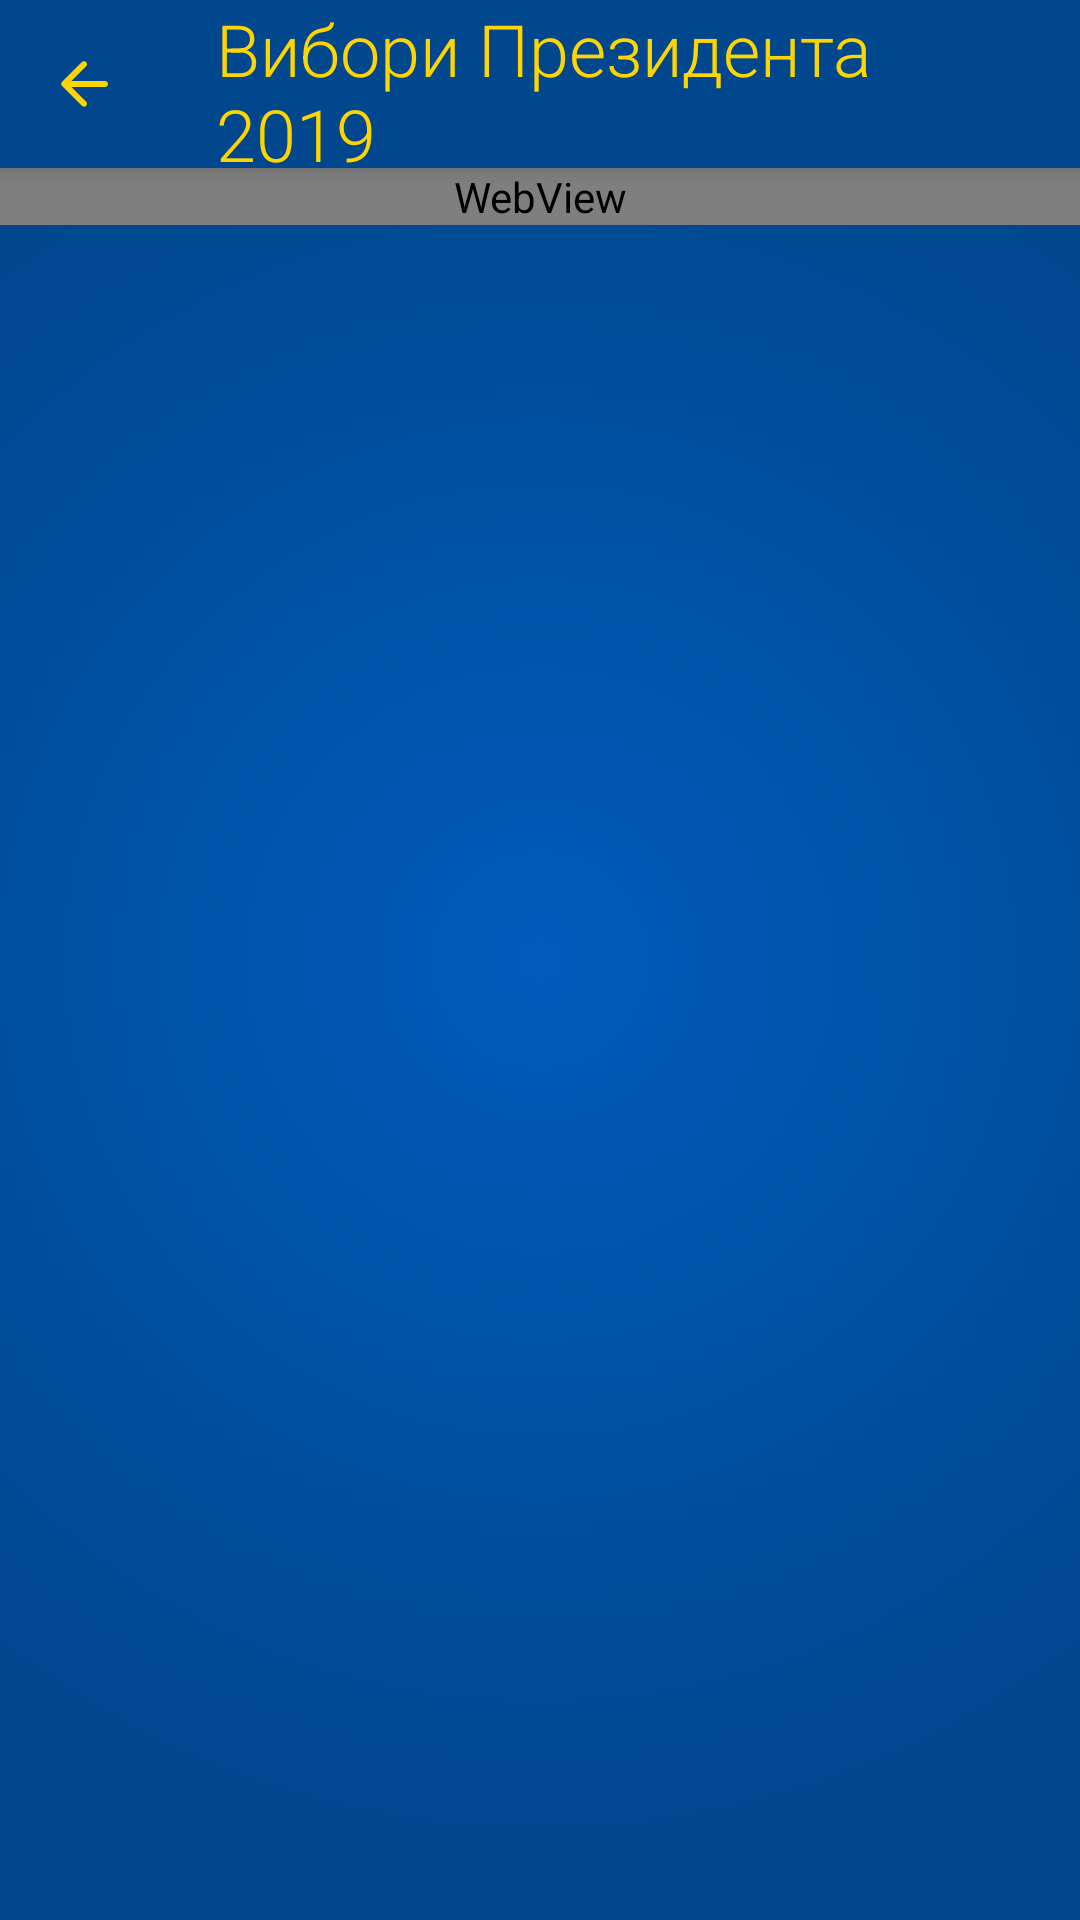

Named icons in this screenshot (1080px x 1920px) and their centers, (x,y):
arrow back: (84,84)
